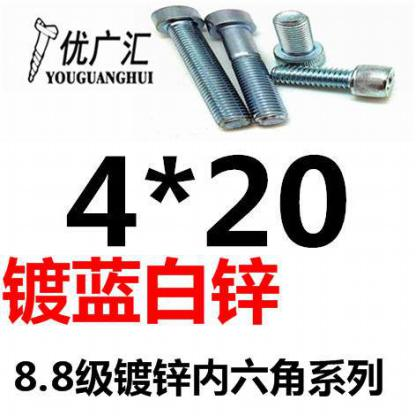FOD: (147, 4, 250, 131), (204, 8, 291, 127), (267, 60, 397, 101), (270, 9, 328, 70)
